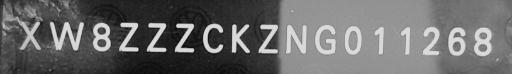letter: (48, 19, 84, 51), (283, 21, 309, 55), (16, 18, 42, 51), (200, 21, 226, 53), (312, 23, 338, 55), (90, 20, 114, 52), (145, 20, 169, 52), (173, 21, 197, 53), (256, 22, 280, 54), (418, 24, 442, 56), (118, 20, 140, 52), (230, 22, 252, 54), (342, 23, 364, 55), (445, 25, 467, 57), (472, 25, 494, 57), (370, 25, 386, 57), (397, 25, 413, 57)
